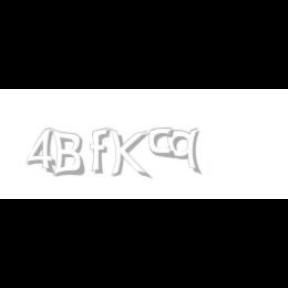4: (25, 128, 56, 174)
B: (51, 128, 85, 178)
K: (108, 128, 148, 180)
c: (148, 128, 178, 160)
f: (90, 128, 114, 174)
q: (167, 128, 203, 176)
